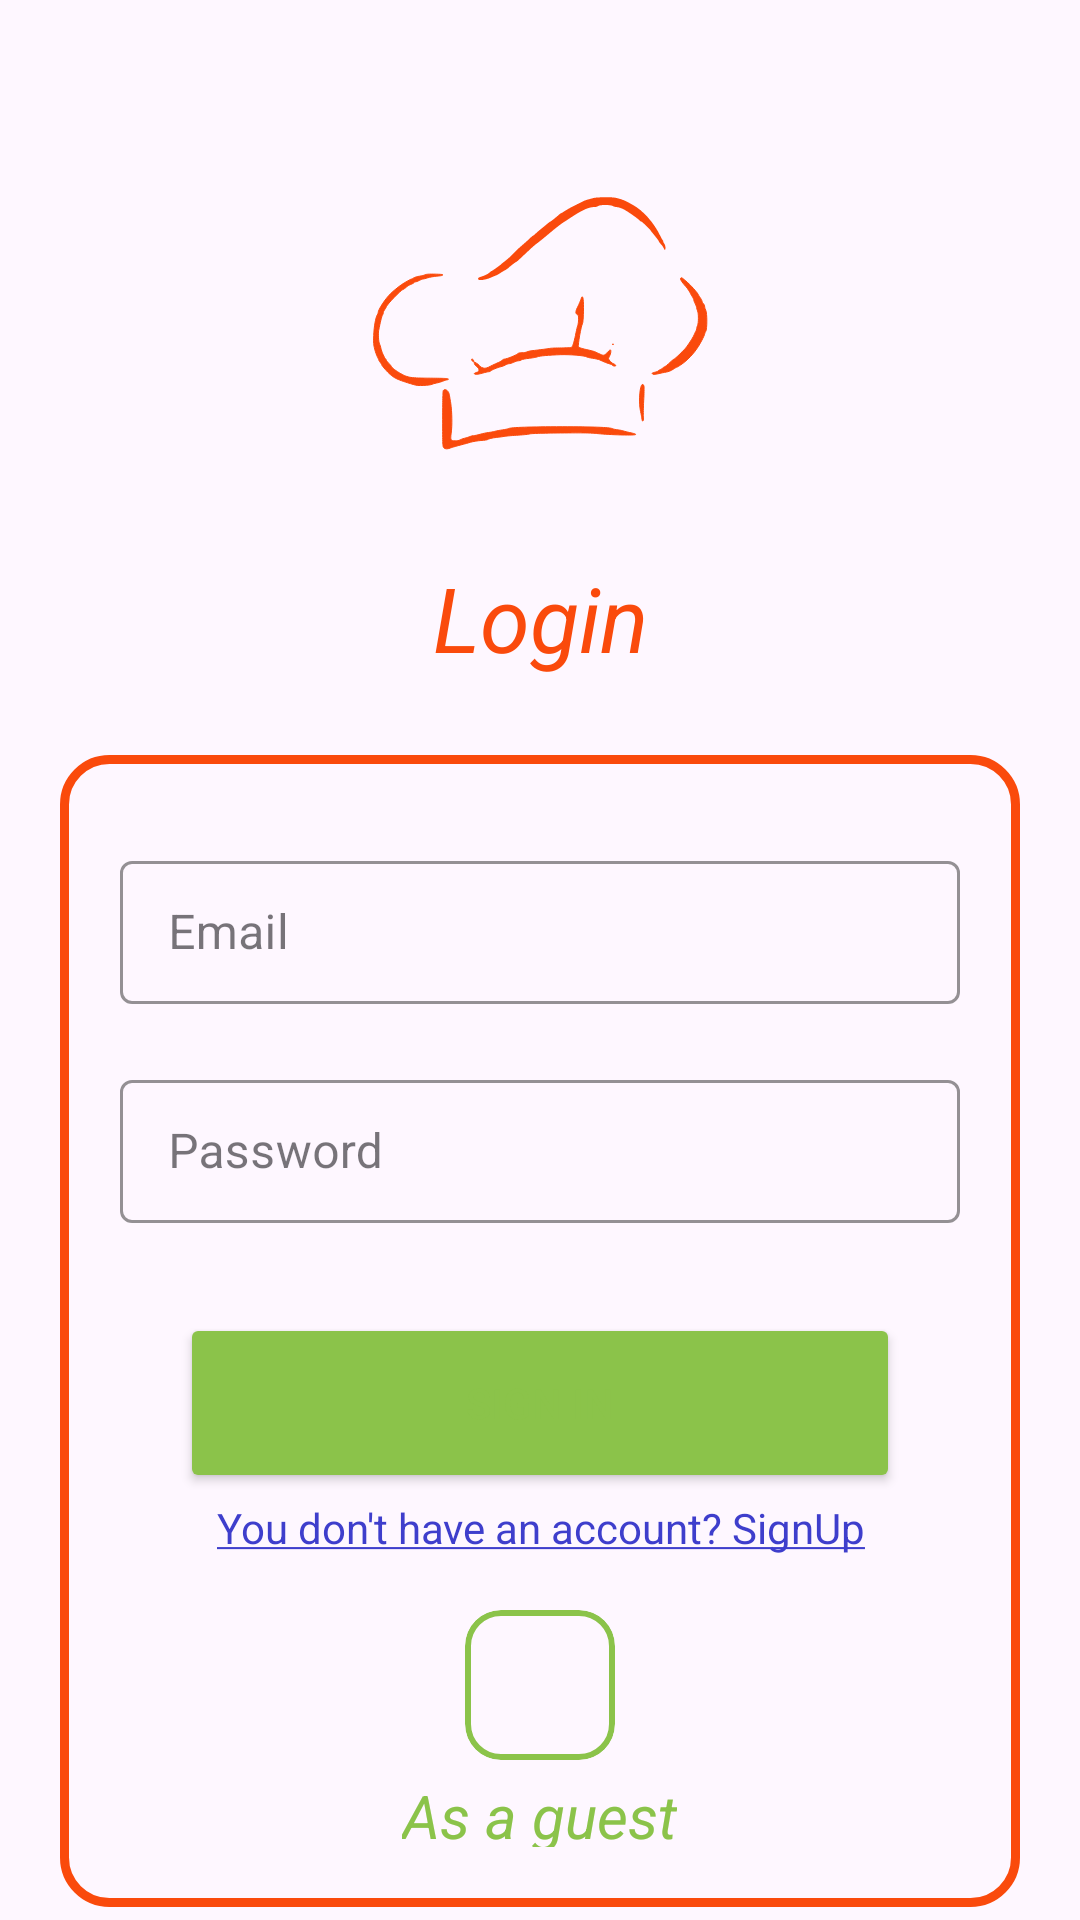

Named icons in this screenshot (1080 × 1920) and their centers, (x,y):
chef: (540,323)
